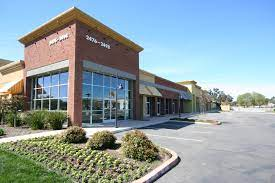Building House: (4, 10, 189, 119)
